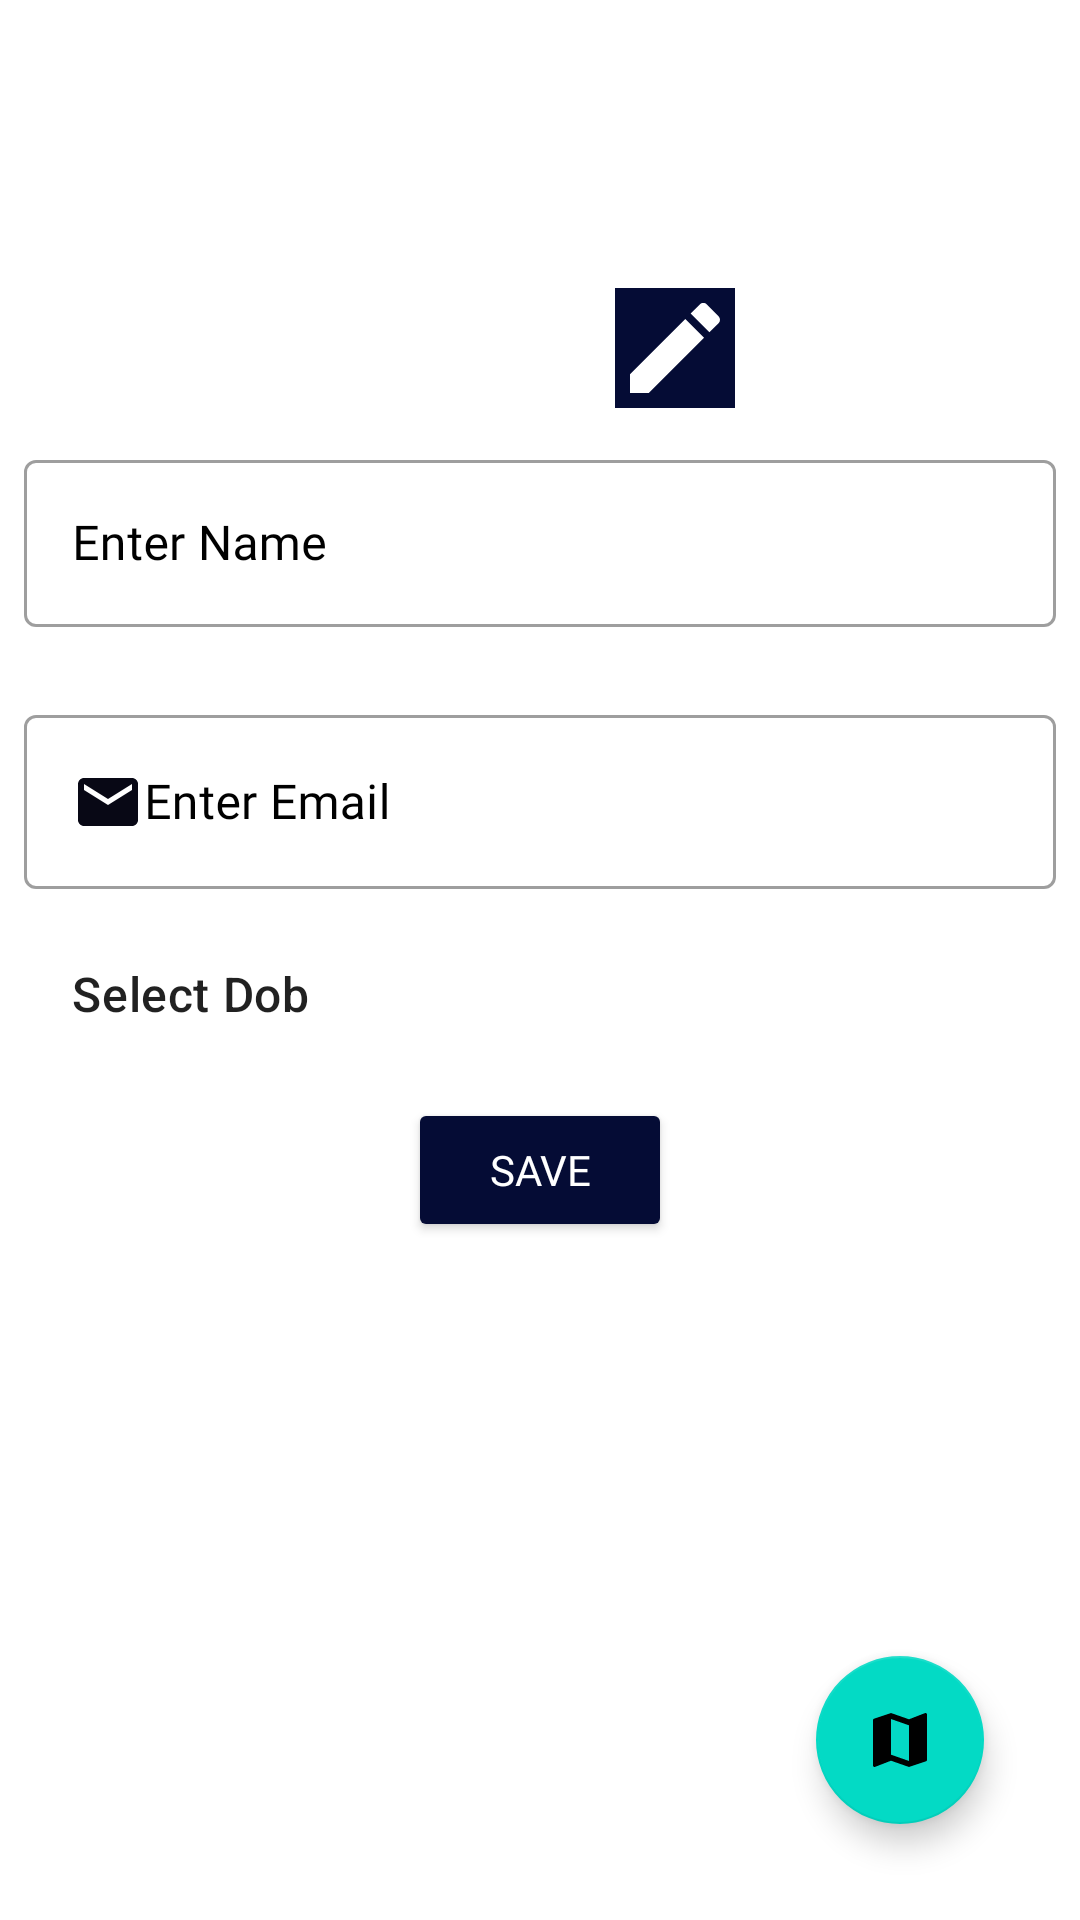

Where icons sit on this 1080x1920 app screen, as Rect(x1, y1, x2, y2):
edit: Rect(615, 288, 735, 408)
map: Rect(816, 1656, 984, 1824)
